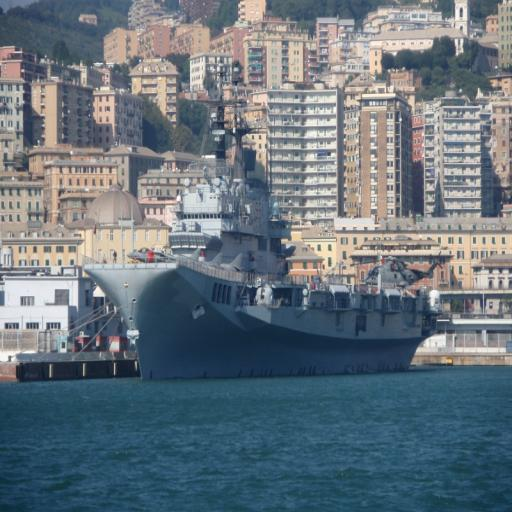Portanaves: (80, 98, 442, 389)
